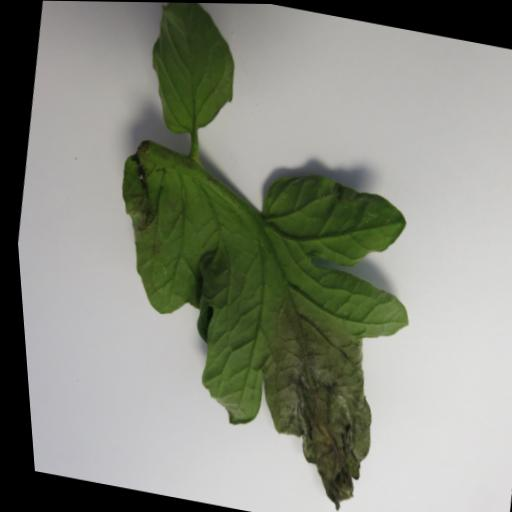Early Blight: (46, 129, 442, 512)
